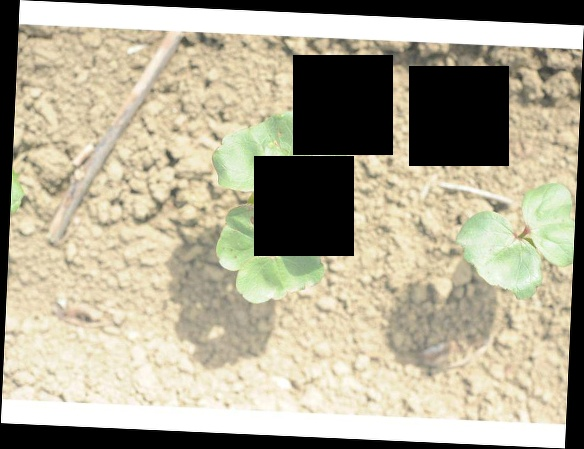cotton: (208, 111, 353, 307), (458, 177, 575, 299)
